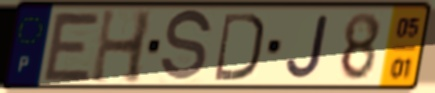8: (338, 11, 382, 83)
D: (212, 10, 266, 83)
E: (40, 9, 104, 84)
H: (87, 6, 156, 86)
J: (284, 12, 333, 81)
S: (157, 7, 215, 86)
